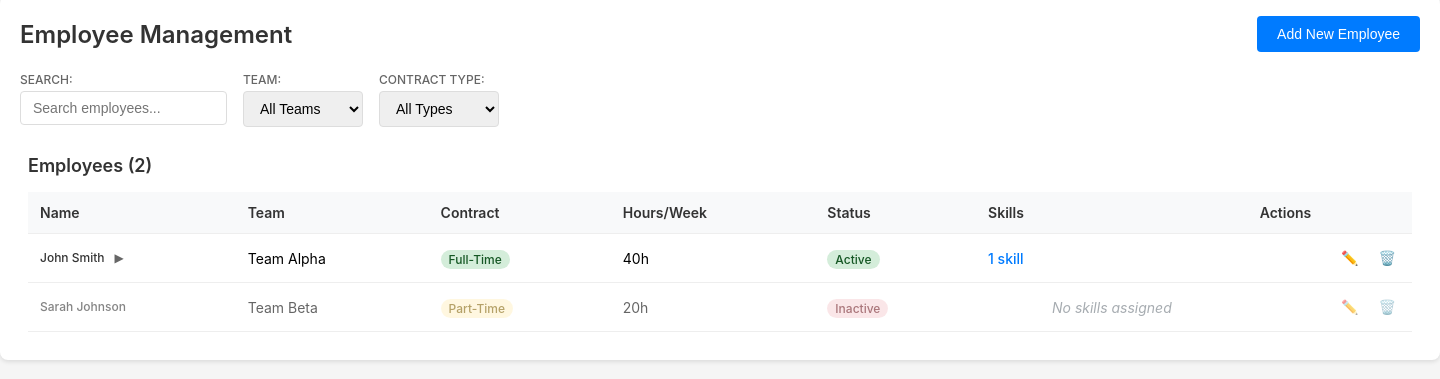
EmployeeManagement › filters employees by contract type
Select "Part-time" in the dropdown labelled "Contract Type:": (439, 109) [379,91,499,127]
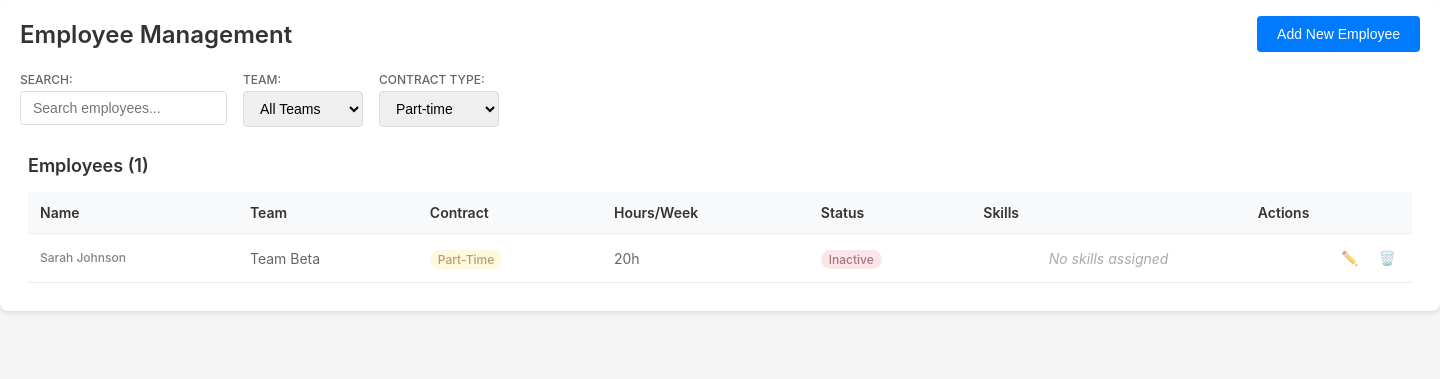
Expected: the text "Sarah Johnson" is shown, [40,250,126,265]
Result: the text "John Smith" is gone
